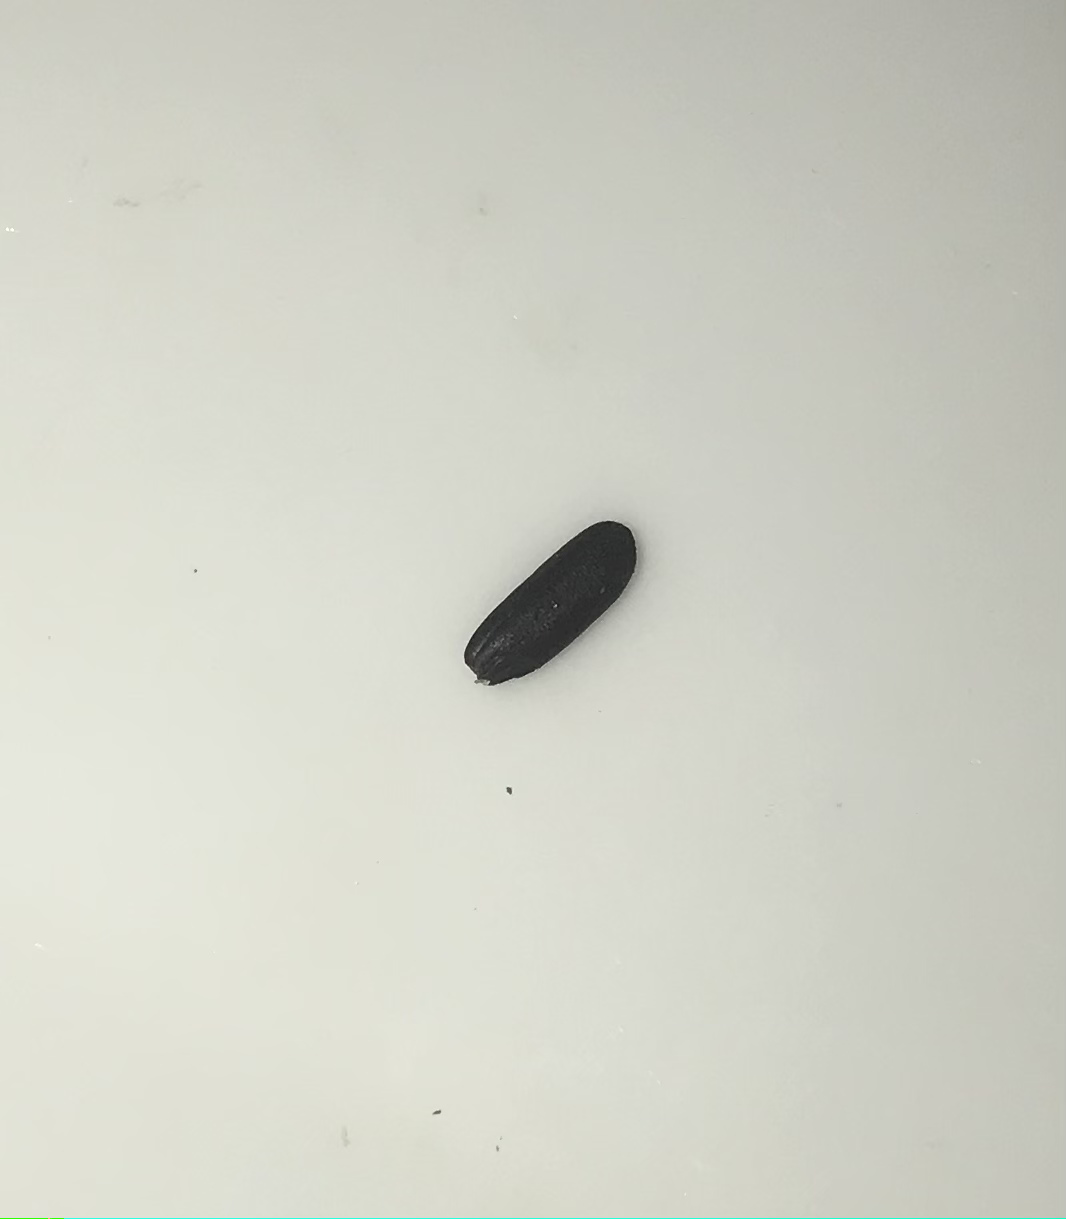Gao Nep Cam: (455, 508, 647, 705)
